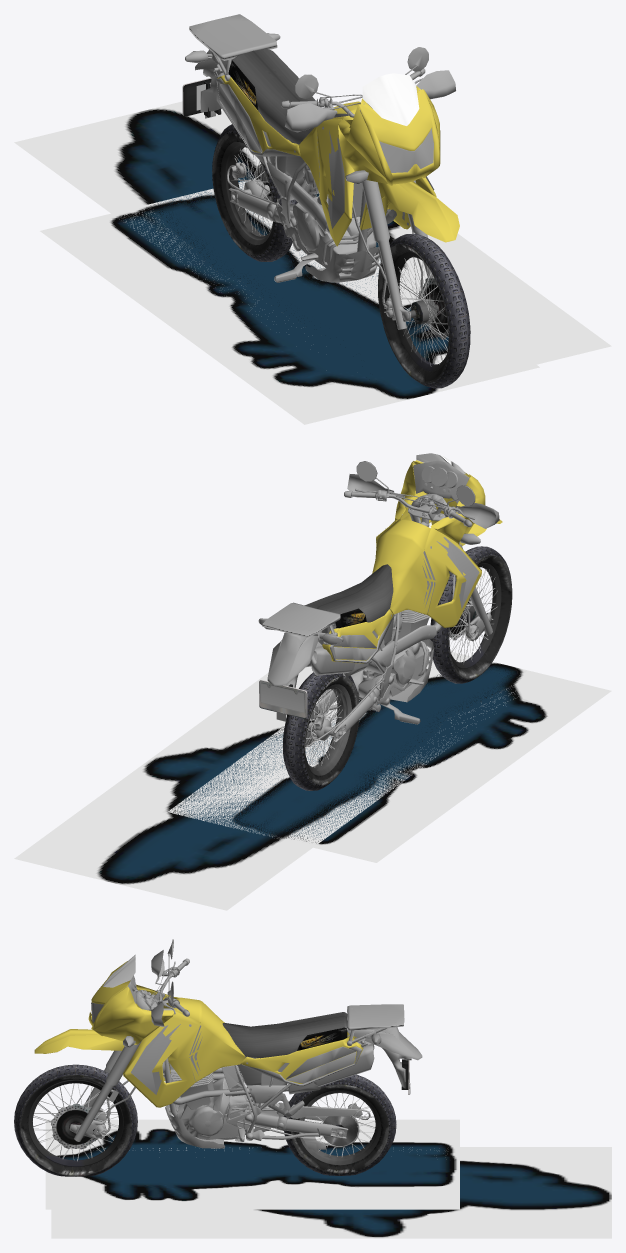
File: bike02_33.fbx
3 views of the same model, one above another, from view 1: azimuth 30°, elevation 25°; view 2: azimuth 150°, elevation 25°; view 3: azimuth 270°, elevation 25° (orthographic). The views are drawn at different scales.
Parts seen in each view (by area): view 1: Shadow_DayLight, Shadow_SunSet, Chrome, Body, SteeringChrome, Tyre_F_1, Matt, Rim_F_1, SteeringBody, Tyre_B_1, Rim_B_1, Glass (+1 smaller); view 2: Shadow_SunSet, Shadow_DayLight, Chrome, Body, SteeringChrome, Tyre_B_1, Tyre_F_1, Matt, Rim_B_1, Rim_F_1, Plate_3; view 3: Shadow_DayLight, Shadow_SunSet, Chrome, Body, Tyre_F_1, SteeringChrome, Matt, Rim_F_1, Tyre_B_1, Rim_B_1, SteeringBody, Glass.
Part boxes in pixels (box(x1,y1,x2,y2)): Shadow_DayLight: box(40, 179, 539, 424); Shadow_SunSet: box(14, 101, 611, 384); Chrome: box(185, 14, 434, 282); Body: box(217, 75, 440, 246); SteeringChrome: box(281, 47, 455, 329); Tyre_F_1: box(378, 234, 470, 388); Matt: box(228, 48, 318, 144); Rim_F_1: box(394, 252, 448, 371); SteeringBody: box(360, 181, 459, 242); Tyre_B_1: box(212, 124, 297, 261); Rim_B_1: box(221, 142, 272, 244); Glass: box(362, 73, 419, 125); Shadow_SunSet: box(14, 650, 540, 910); Shadow_DayLight: box(168, 646, 611, 862); Chrome: box(258, 460, 479, 746); Body: box(322, 460, 485, 663); SteeringChrome: box(344, 461, 499, 641); Tyre_B_1: box(282, 672, 359, 790); Tyre_F_1: box(430, 546, 512, 683); Matt: box(304, 564, 393, 628); Rim_B_1: box(305, 684, 351, 775); Rim_F_1: box(449, 563, 501, 668); Plate_3: box(259, 680, 307, 718); Shadow_DayLight: box(45, 1119, 459, 1209); Shadow_SunSet: box(51, 1147, 611, 1238); Chrome: box(91, 975, 422, 1149); Body: box(88, 961, 363, 1107); Tyre_F_1: box(14, 1064, 137, 1176); SteeringChrome: box(69, 939, 189, 1141); Matt: box(222, 1012, 347, 1058); Rim_F_1: box(28, 1079, 123, 1166); Tyre_B_1: box(284, 1074, 396, 1175); Rim_B_1: box(299, 1090, 381, 1165); SteeringBody: box(34, 1029, 124, 1053); Glass: box(103, 954, 135, 987).
Size of the model in its own units: 147 by 126 by 312.
